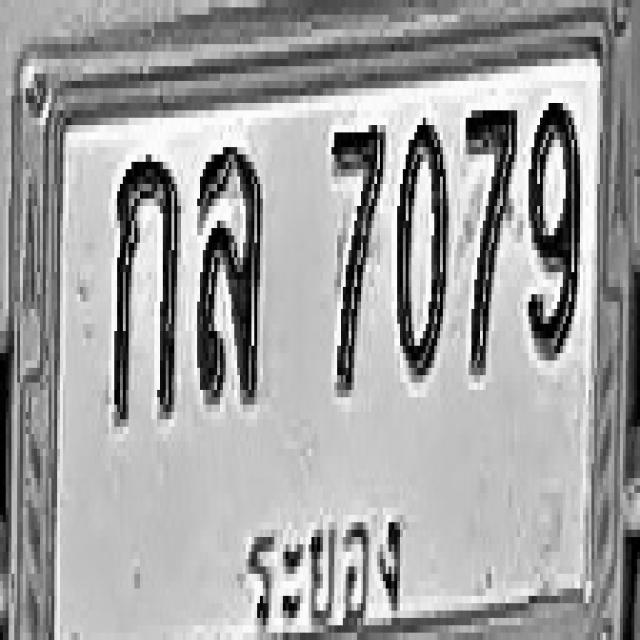0: (394, 110, 449, 376)
10GorGai: (113, 151, 178, 423)
45LorLing: (196, 140, 261, 404)
7: (330, 118, 384, 390), (463, 100, 517, 372)
9: (527, 96, 579, 353)
Rayong: (242, 495, 414, 640)
